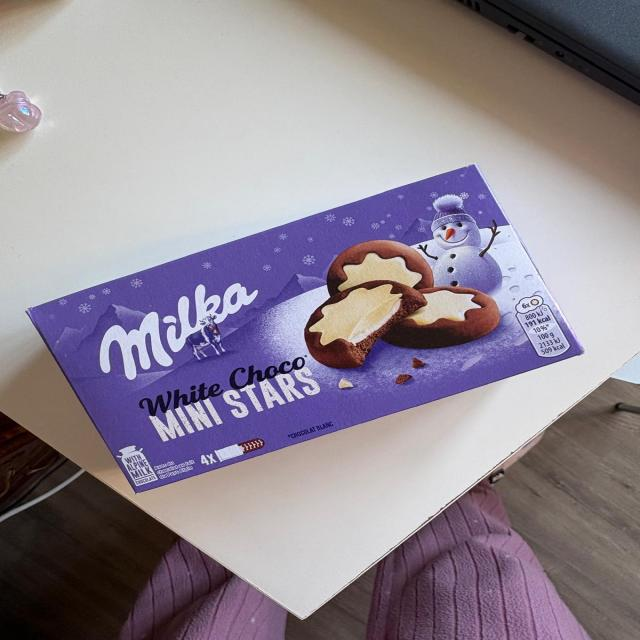good_package: (27, 165, 586, 494)
